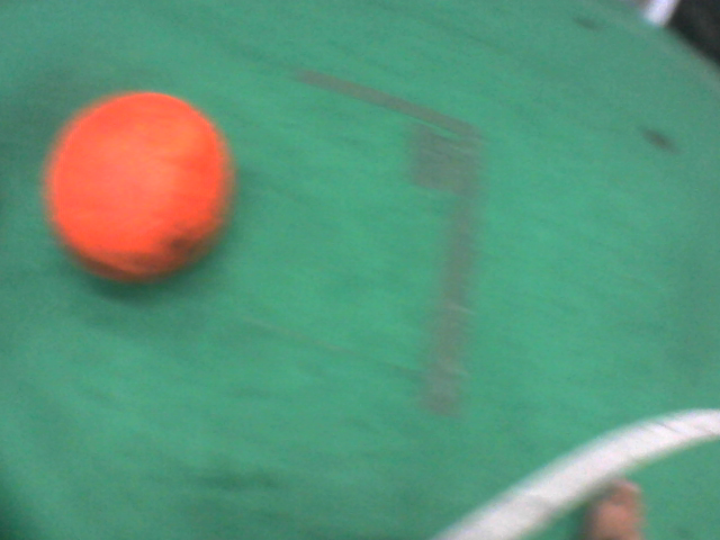bola: (40, 77, 239, 295)
